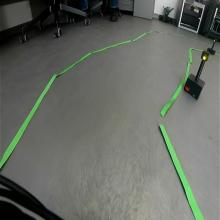green: (200, 50, 210, 62)
